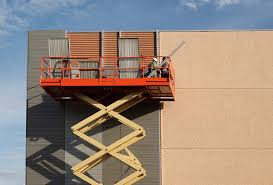Scissor Lift: (39, 54, 177, 185)
